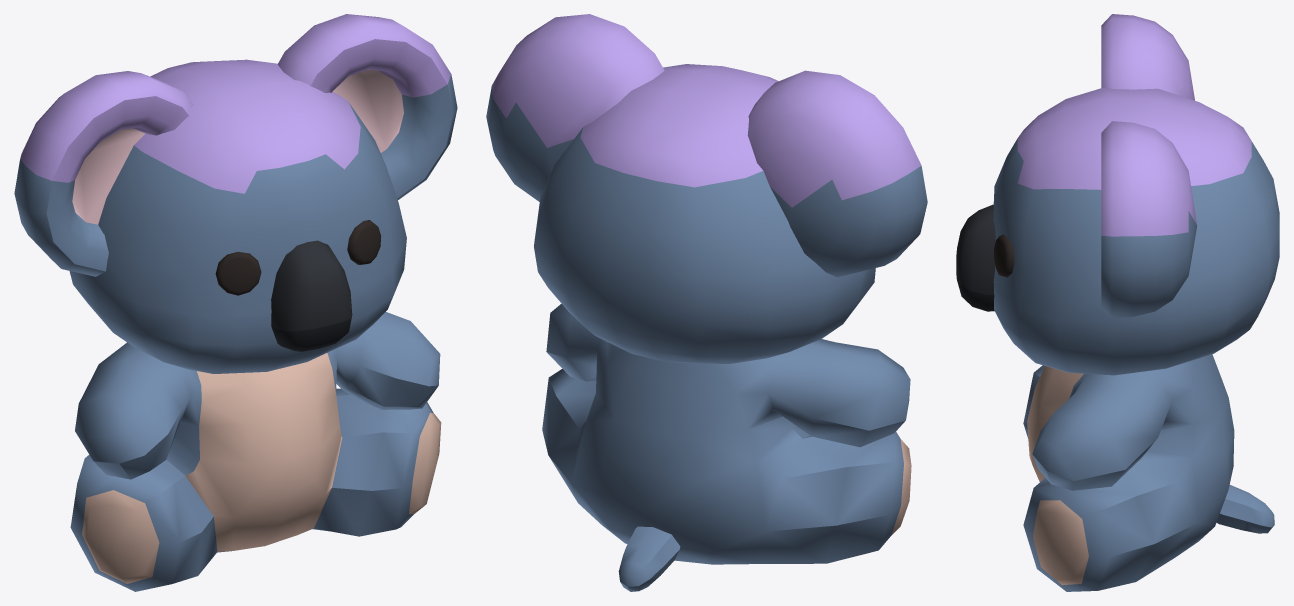
File: pelucia_coala_pacote.glb
The picture shows the model from 3 angles, left to right: view 1: azimuth 30°, elevation 25°; view 2: azimuth 150°, elevation 25°; view 3: azimuth 270°, elevation 25°; orthographic projection. The views are drawn at different scales.
Visible parts, largest first — view 1: pelucia_coala_pacote; view 2: pelucia_coala_pacote; view 3: pelucia_coala_pacote.
Part boxes in pixels (bbox=[...]): pelucia_coala_pacote: bbox=[14, 14, 457, 591]; pelucia_coala_pacote: bbox=[486, 14, 927, 591]; pelucia_coala_pacote: bbox=[956, 14, 1279, 591].
Size of the model in its own units: 0.3978 by 0.442 by 0.2796.
Materials: 1 (1 with a texture image).
